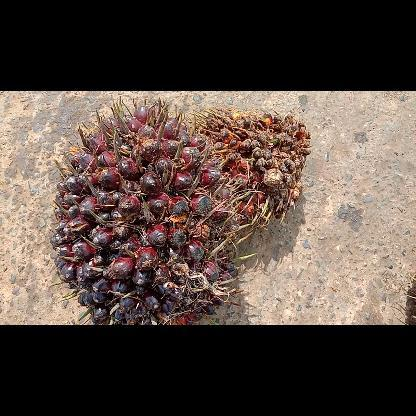Kurang masak: (48, 98, 256, 324)
TBS abnormal: (186, 108, 310, 224)
